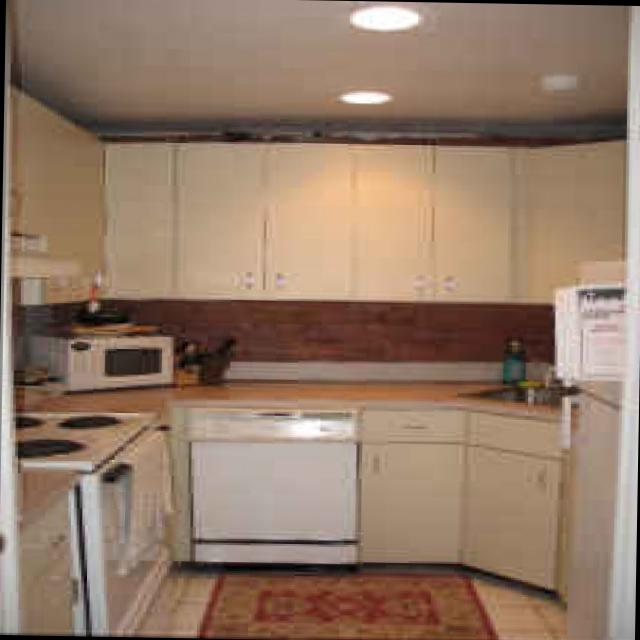2036: (15, 374, 585, 416)
ceiling beam: (14, 0, 628, 132)
cupboard crop: (350, 141, 518, 304), (177, 141, 350, 299), (459, 410, 576, 600), (527, 140, 629, 305), (365, 410, 459, 563), (3, 468, 80, 630), (158, 407, 192, 565)
dishwasher: (189, 407, 360, 564)
extractor hood: (13, 248, 95, 304)
floor -X: (9, 523, 630, 640)
fridge crop: (554, 285, 632, 639)
lamp crop: (349, 3, 423, 31), (342, 86, 391, 106), (539, 72, 582, 90)
microwave oven: (27, 321, 175, 390)
rug -partially obscured-: (202, 564, 501, 637)
sink basin: (479, 381, 579, 403)
stove burner: (17, 409, 172, 632)
wall clock: (100, 133, 524, 528), (517, 115, 640, 640), (6, 88, 116, 630)
